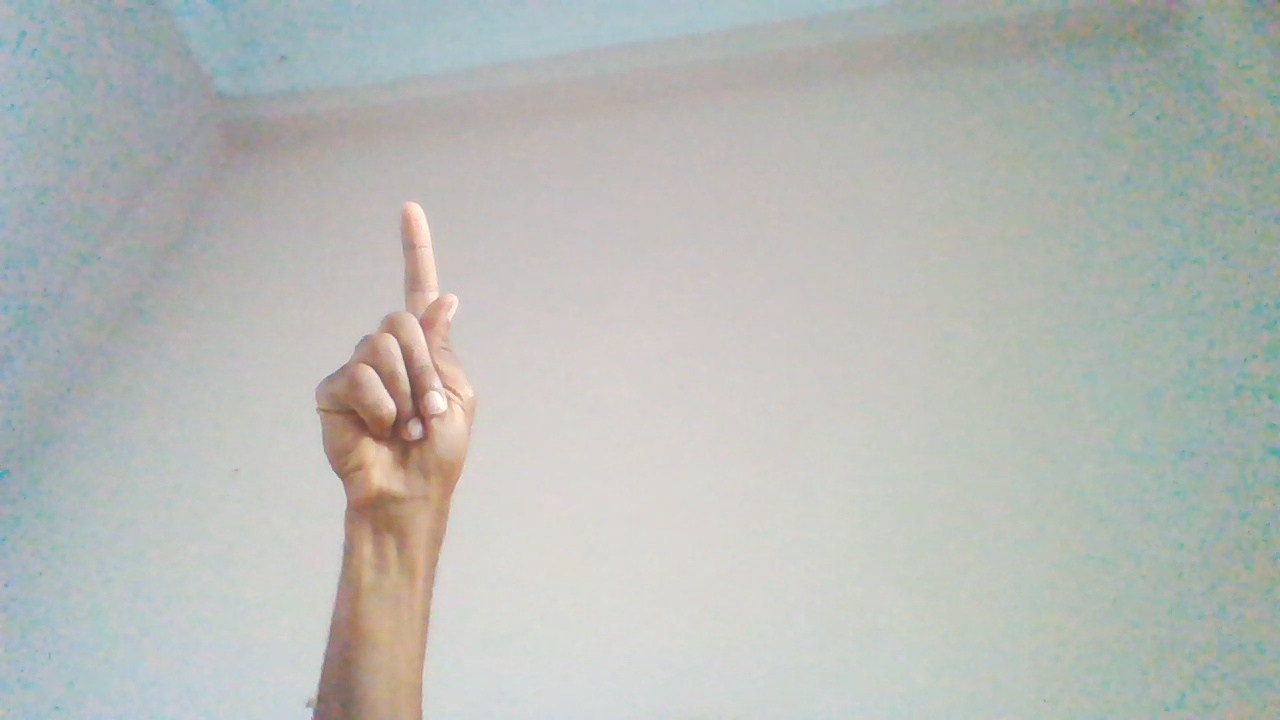ne: (306, 194, 476, 534)
